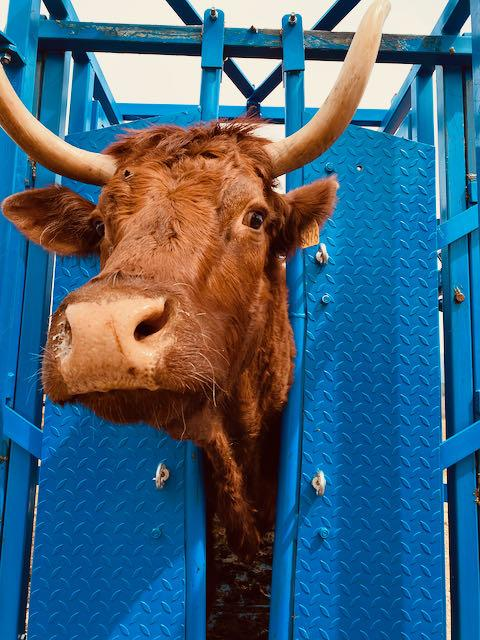muzzles: (34, 302, 222, 432)
